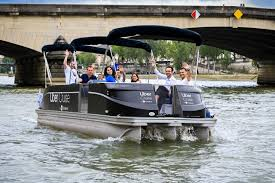boat: (35, 26, 217, 148)
